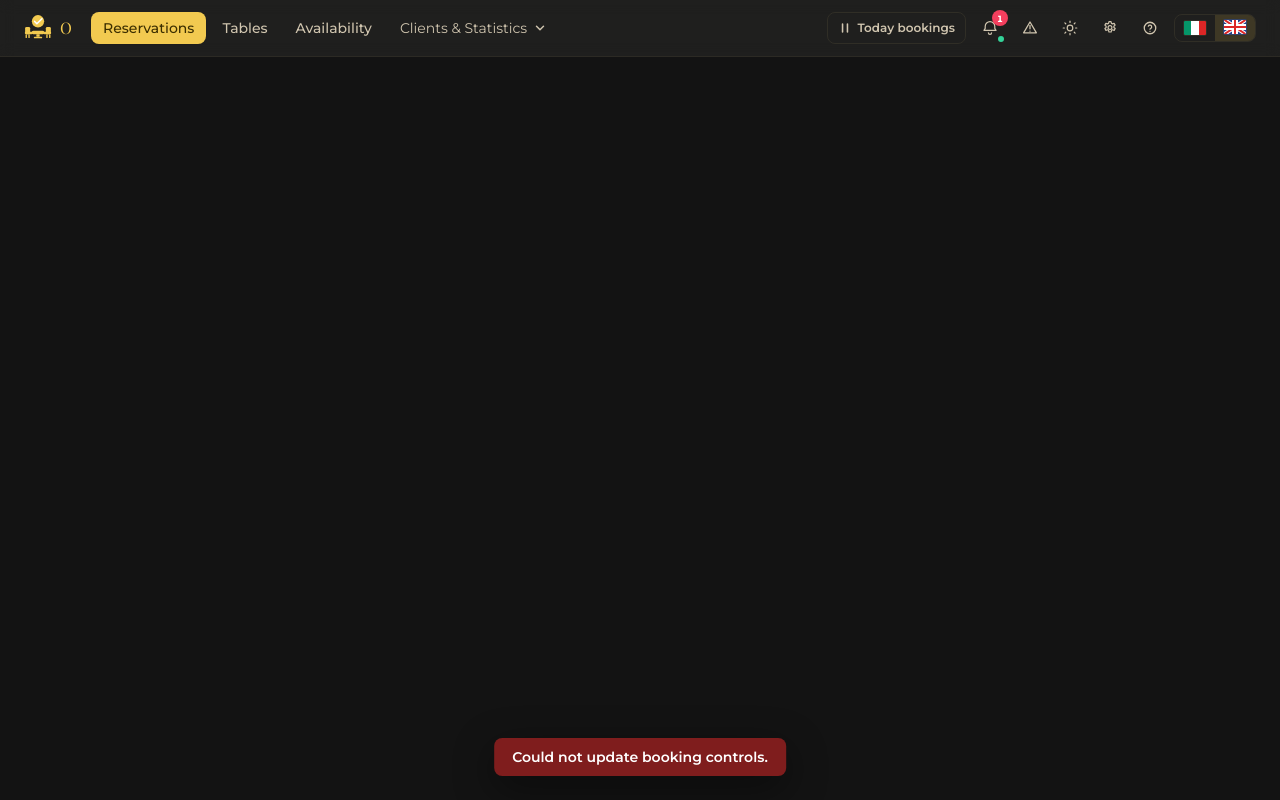
AdminShell › removes a notification from the bell popup when it is opened
Click the button named "notifications" at (990, 28), box x1=974 y1=12 x2=1006 y2=44
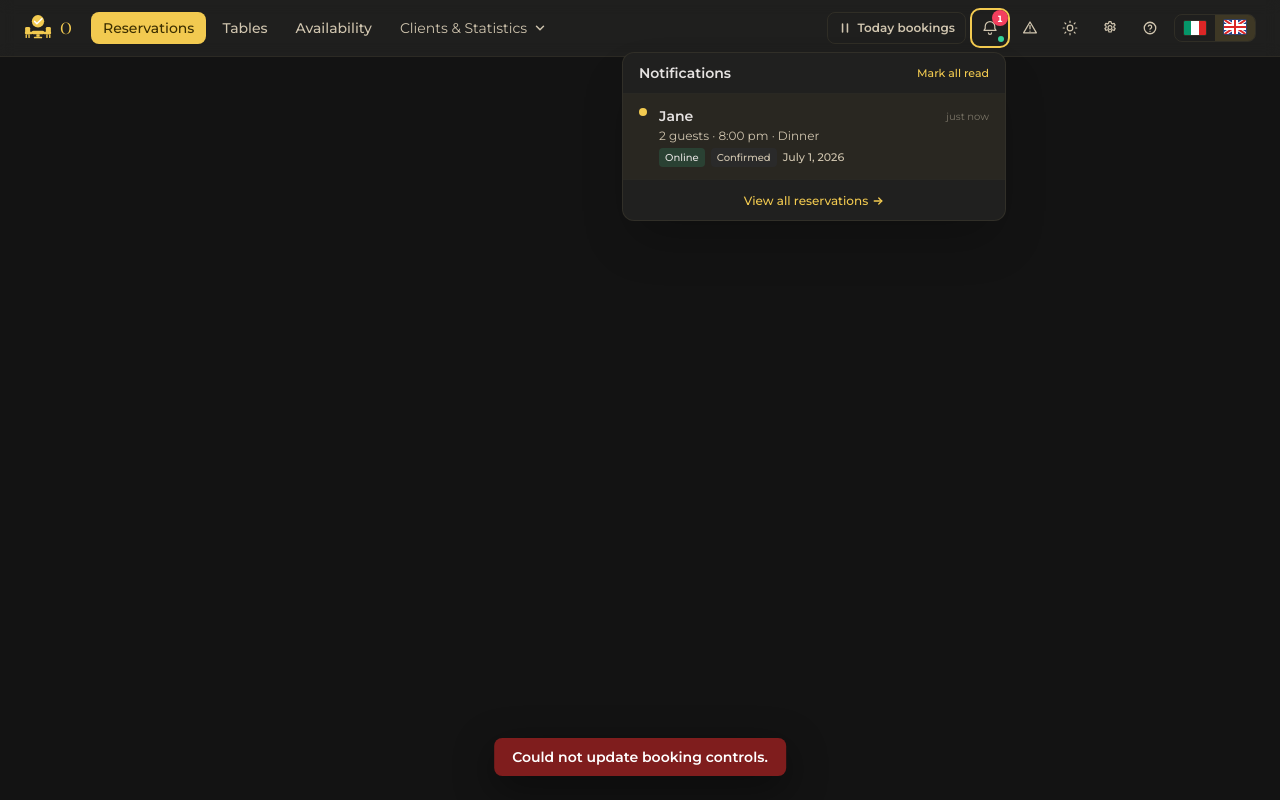
Click the button "Jane" at (814, 136), box x1=623 y1=94 x2=1005 y2=179
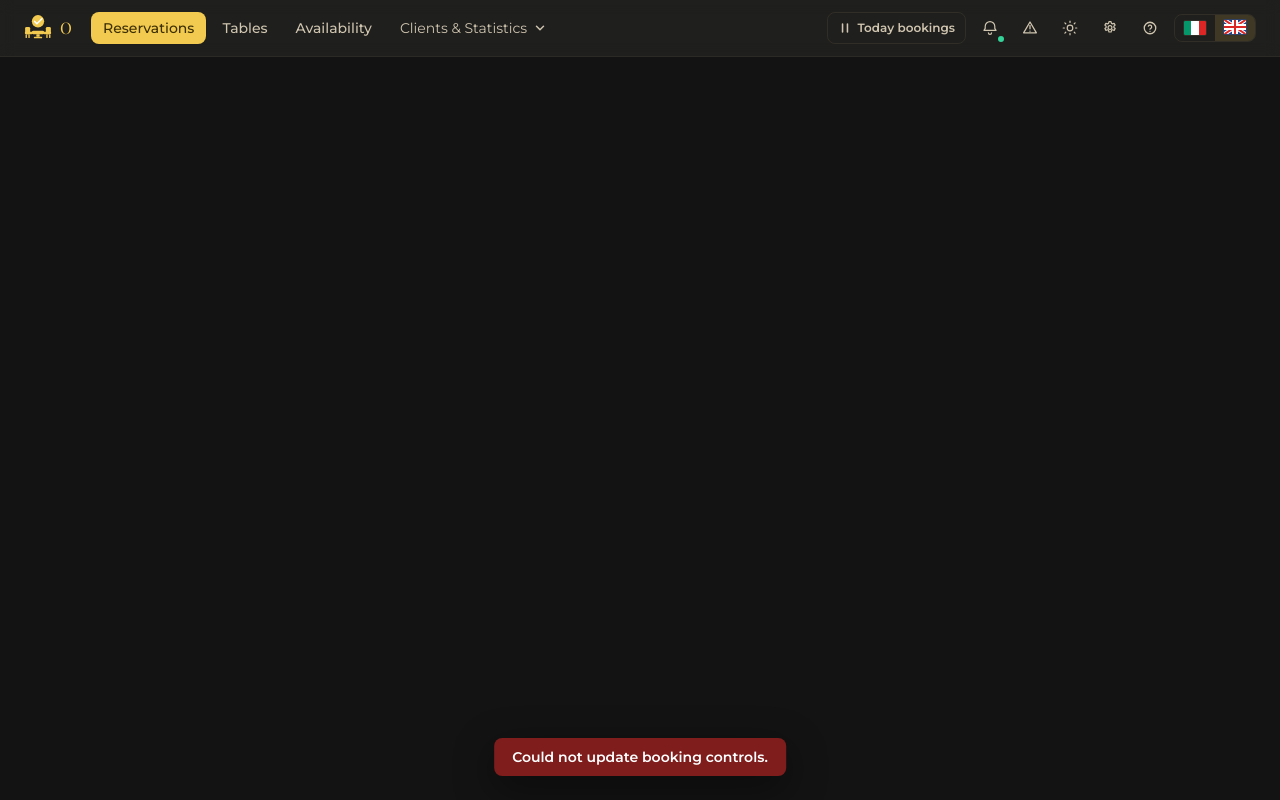
Click the button named "Notifications" at (990, 28), box x1=974 y1=12 x2=1006 y2=44
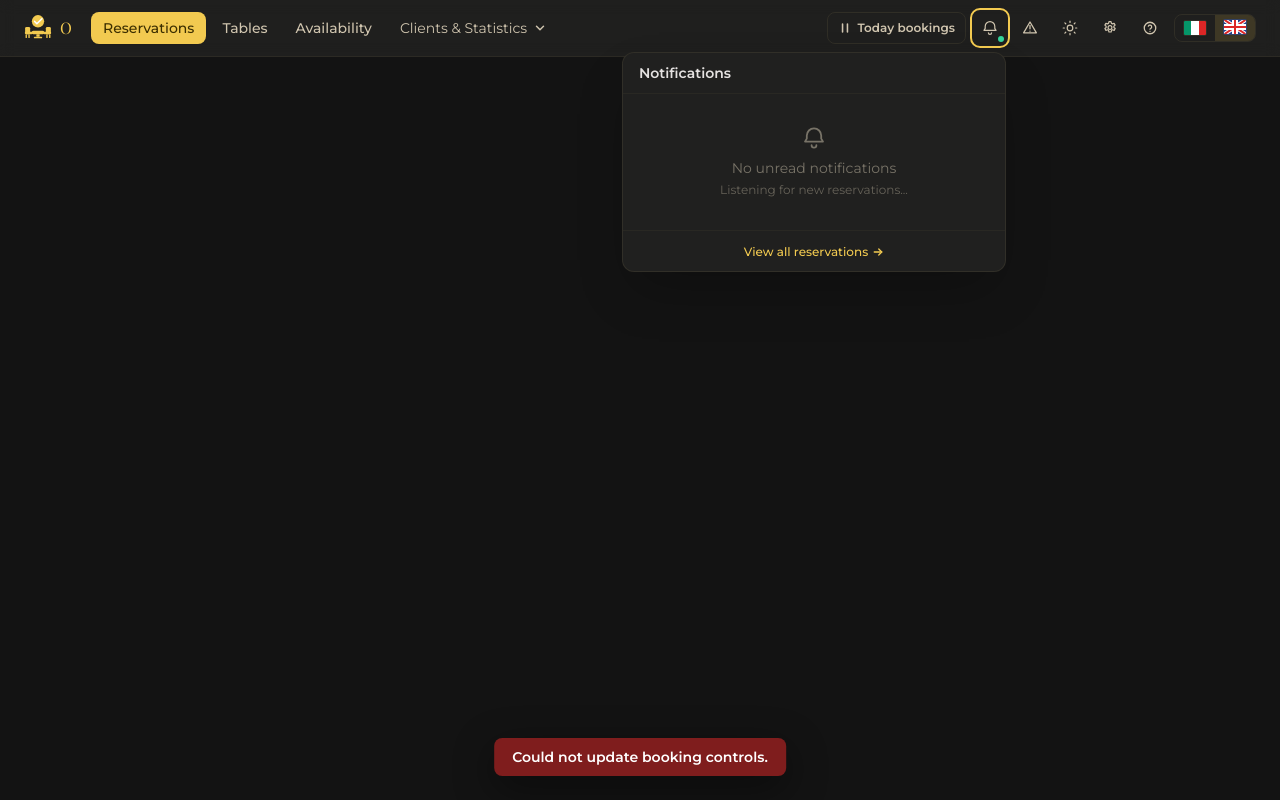
Check: the button "Jane" is not shown
Check: the text "No unread notifications" is shown, box x1=732 y1=159 x2=896 y2=177
